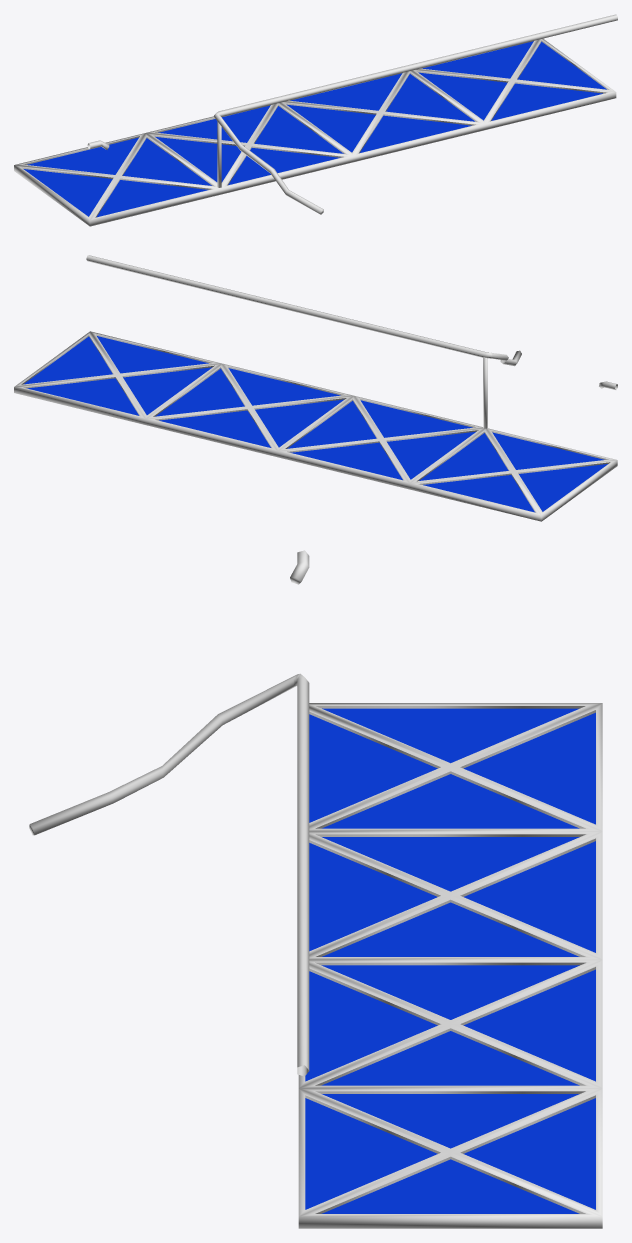
The model's file is SM_FloorFlat8x2_Broken.fbx.
The picture shows the model from 3 angles, top to bottom: view 1: azimuth 30°, elevation 25°; view 2: azimuth 150°, elevation 25°; view 3: azimuth 270°, elevation 25°; orthographic projection. The views are drawn at different scales.
Parts seen in each view (by area): view 1: SM_FloorFlat4x2_Broken; view 2: SM_FloorFlat4x2_Broken; view 3: SM_FloorFlat4x2_Broken.
Boxes of the visible parts, box(x1,y1,x2,y2) form: SM_FloorFlat4x2_Broken: box(14, 14, 617, 226); SM_FloorFlat4x2_Broken: box(14, 255, 617, 521); SM_FloorFlat4x2_Broken: box(29, 550, 602, 1228).
Size of the model in its own units: 802 by 120 by 377.
